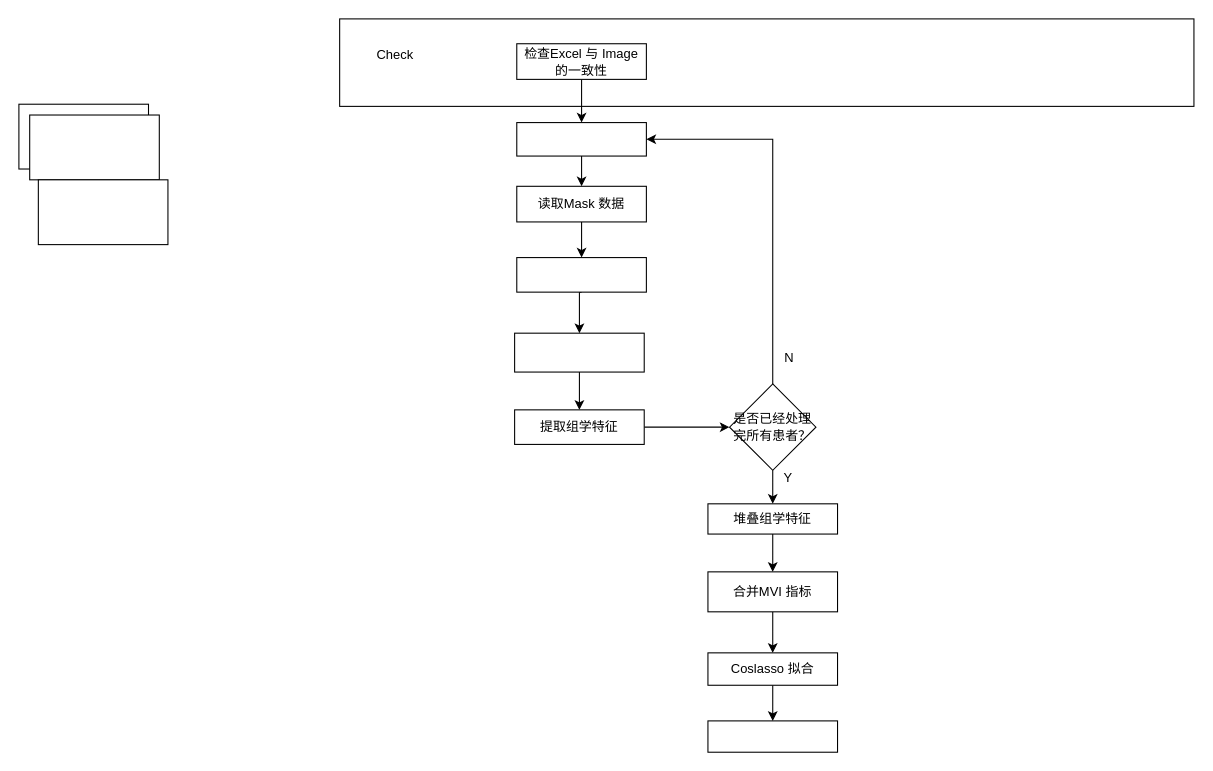
The diagram is 1213 pixels wide and 771 high, and some of its shapes have lost their labels. The shapes that lost their labels are listed below. From the top down, each one's box as (x1, y1, x2, y2) in pixels, then its label:
(516, 122, 646, 156): 定位患者
(516, 256, 646, 292): 构建折叠数据
(514, 332, 644, 372): 生成生境图
(707, 720, 838, 752): 得到不同特征对应的系统
